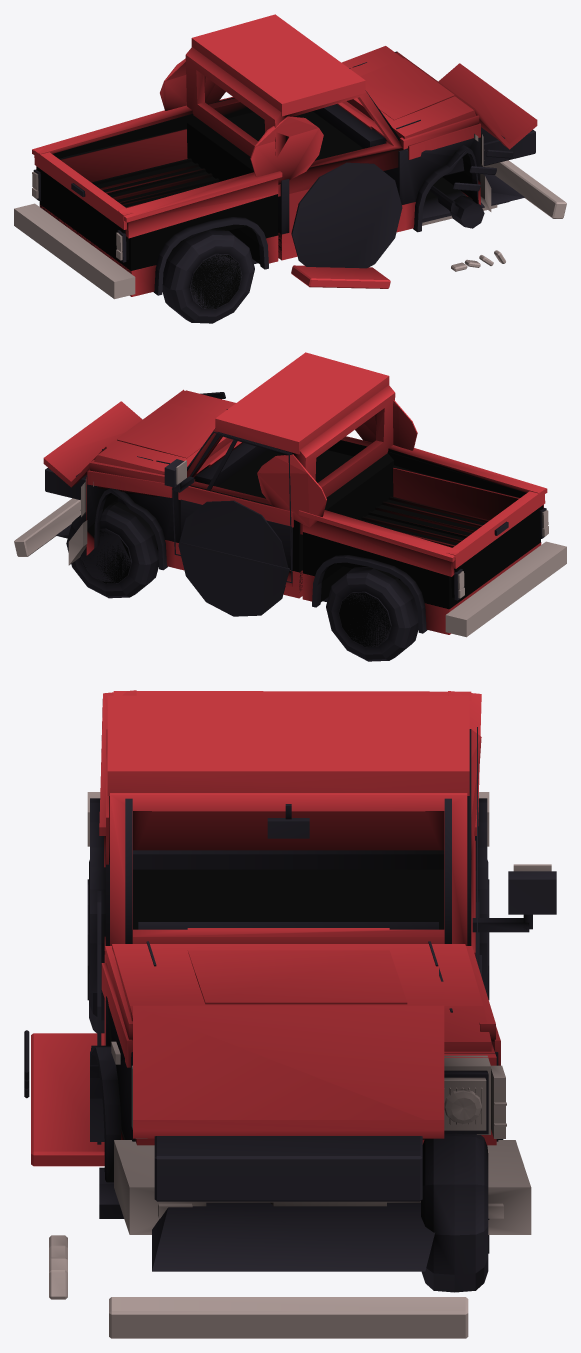
Rendered from model.wrecked.glb.
3 renders of one model, top to bottom at view 1: azimuth 30°, elevation 25°; view 2: azimuth 150°, elevation 25°; view 3: azimuth 270°, elevation 25°, orthographic. The views are drawn at different scales.
Parts seen in each view (by area): view 1: body_pal_survivorRed, body_pal_uiDark, body_pal_sidewalk, wheelRL_pal_uiDark, wheelFL_pal_uiDark; view 2: body_pal_survivorRed, body_pal_uiDark, body_pal_sidewalk, wheelRR_pal_uiDark, wheelFR_pal_uiDark; view 3: body_pal_survivorRed, body_pal_uiDark, body_pal_sidewalk, wheelFR_pal_uiDark, wheelRL_pal_uiDark, wheelFL_pal_uiDark.
Part boxes in pixels (x1,y1,x2,y2): body_pal_survivorRed: (32,14,537,296); body_pal_uiDark: (33,51,535,295); body_pal_sidewalk: (14,133,566,299); wheelRL_pal_uiDark: (162,229,254,323); wheelFL_pal_uiDark: (449,195,484,228); body_pal_survivorRed: (43,352,547,634); body_pal_uiDark: (45,392,546,633); body_pal_sidewalk: (14,460,566,637); wheelRR_pal_uiDark: (326,567,418,661); wheelFR_pal_uiDark: (66,501,158,598); body_pal_survivorRed: (31,690,500,1166); body_pal_uiDark: (24,727,556,1271); body_pal_sidewalk: (49,792,551,1338); wheelFR_pal_uiDark: (421,1133,489,1292); wheelRL_pal_uiDark: (87,860,104,1033); wheelFL_pal_uiDark: (99,1167,123,1218).
Bounding box in the file's own units: 5.04 × 2.15 × 2.53.
